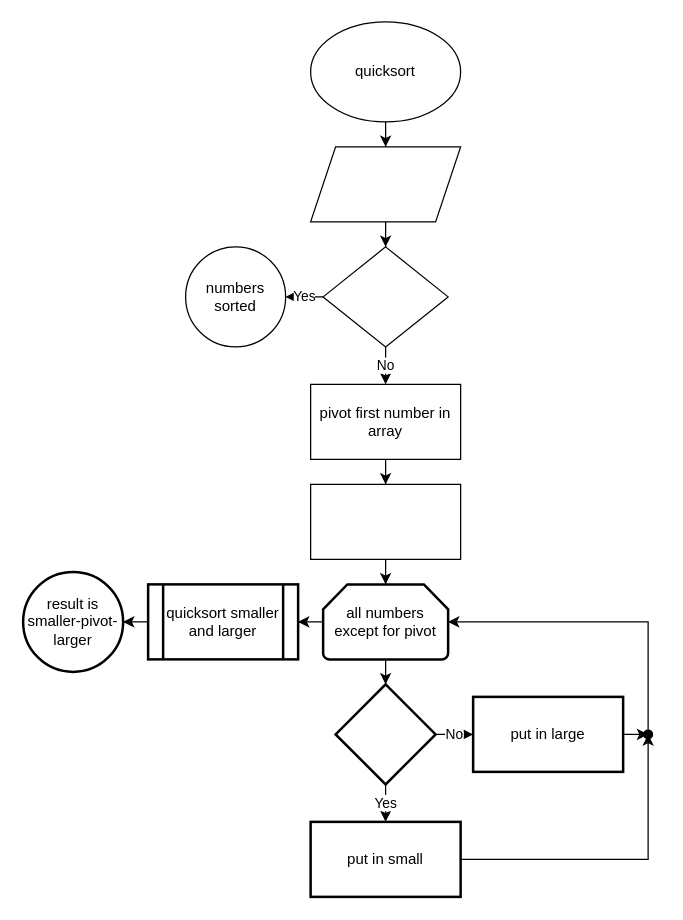
This 683x920 diagram has some shape labels left out. Here are the shapes that lost their labels. From the top down, the centre of each, then its label:
At (x=385, y=184): "array numbers".
At (x=385, y=296): "numbers contain nothing or 1".
At (x=385, y=521): "make arrays smaller larger".
At (x=385, y=733): "is number smaller than pivot".
